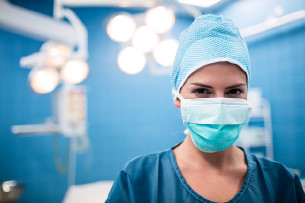face_mask: (182, 63, 251, 152)
